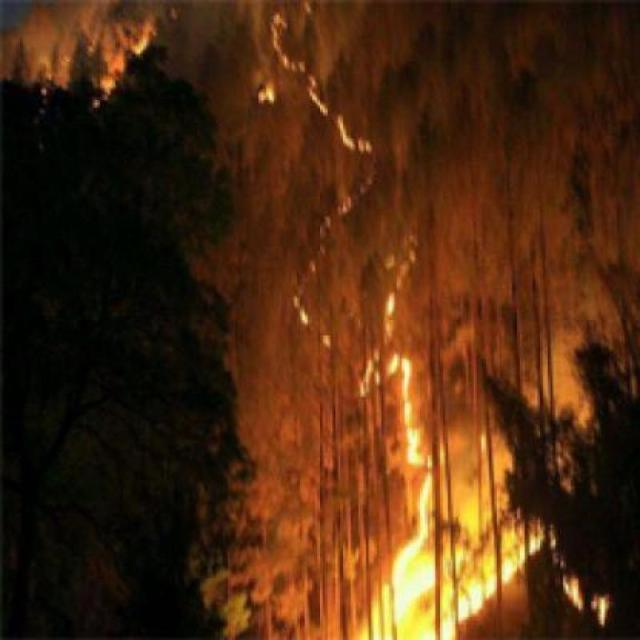Fire: (356, 238, 478, 640), (254, 9, 396, 179), (13, 0, 158, 102), (482, 450, 548, 600)
